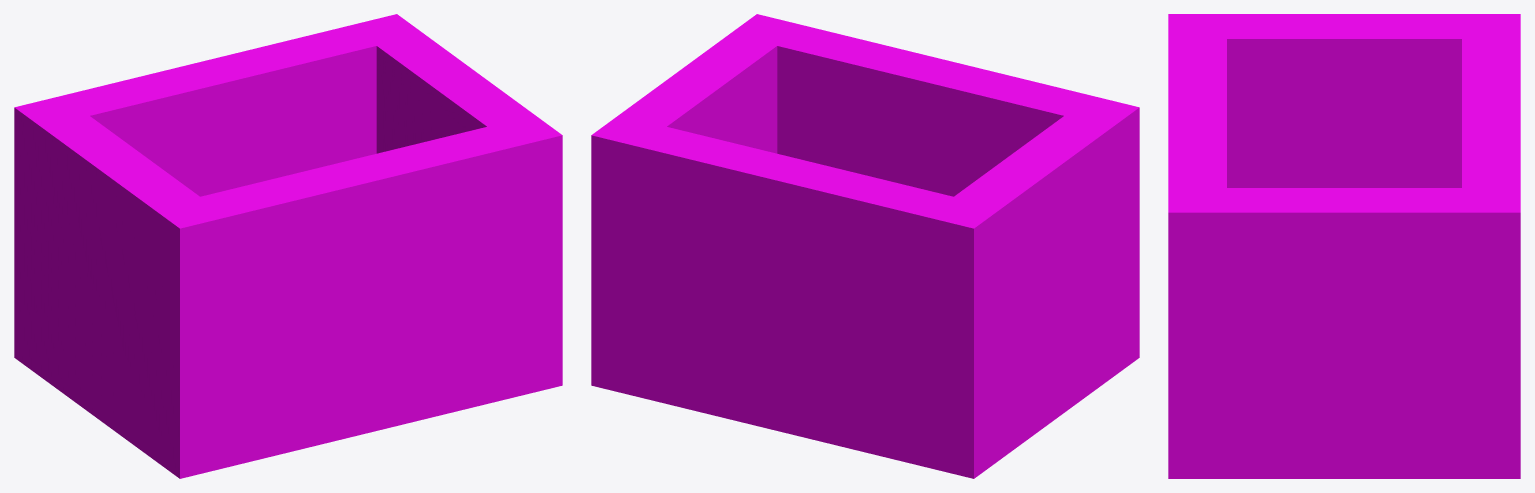
The model's file is cart.gltf.
3 renders of one model, left to right at view 1: azimuth 30°, elevation 25°; view 2: azimuth 150°, elevation 25°; view 3: azimuth 270°, elevation 25°, orthographic. The views are drawn at different scales.
Visible parts, largest first — view 1: Cube; view 2: Cube; view 3: Cube.
Part boxes in pixels (x1,y1,x2,y2): Cube: (14, 14, 562, 478); Cube: (591, 14, 1139, 478); Cube: (1168, 14, 1520, 478).
Bounding box in the file's own units: 4 × 2.5 × 3.
1 material, 1 textured.
